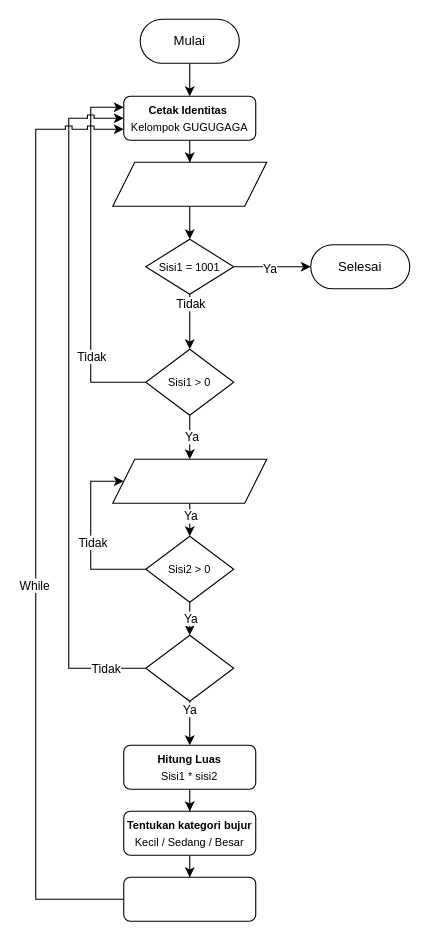
Some shapes in this 429 by 941 pixel diagram are drawn without their labels. The box of each missing label's shape, as (x1, y1, x2, y2) in pixels:
Input sisi1: (112, 161, 267, 206)
Input sisi2: (112, 458, 267, 503)
Sisi1 != Sisi2: (145, 634, 234, 701)
Tampilkan Hasil Luas & Kategori Bujur: (123, 876, 256, 921)
